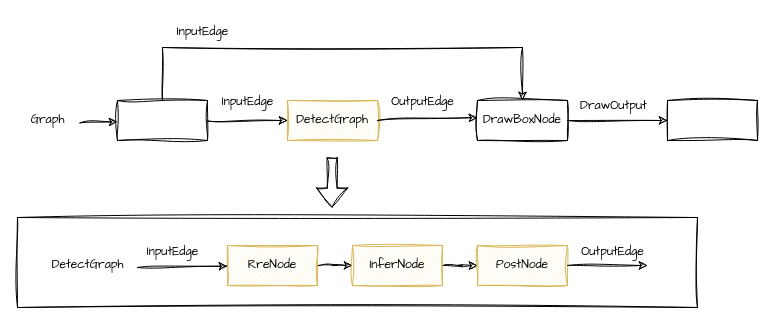
Some shapes in this 775 by 325 pixel diagram are drawn without their labels. Here are the shapes that lost their labels. From the top down, the centre of each, then its label:
At (x=162, y=120): "DecodeNode".
At (x=712, y=120): "EncodeNode".
